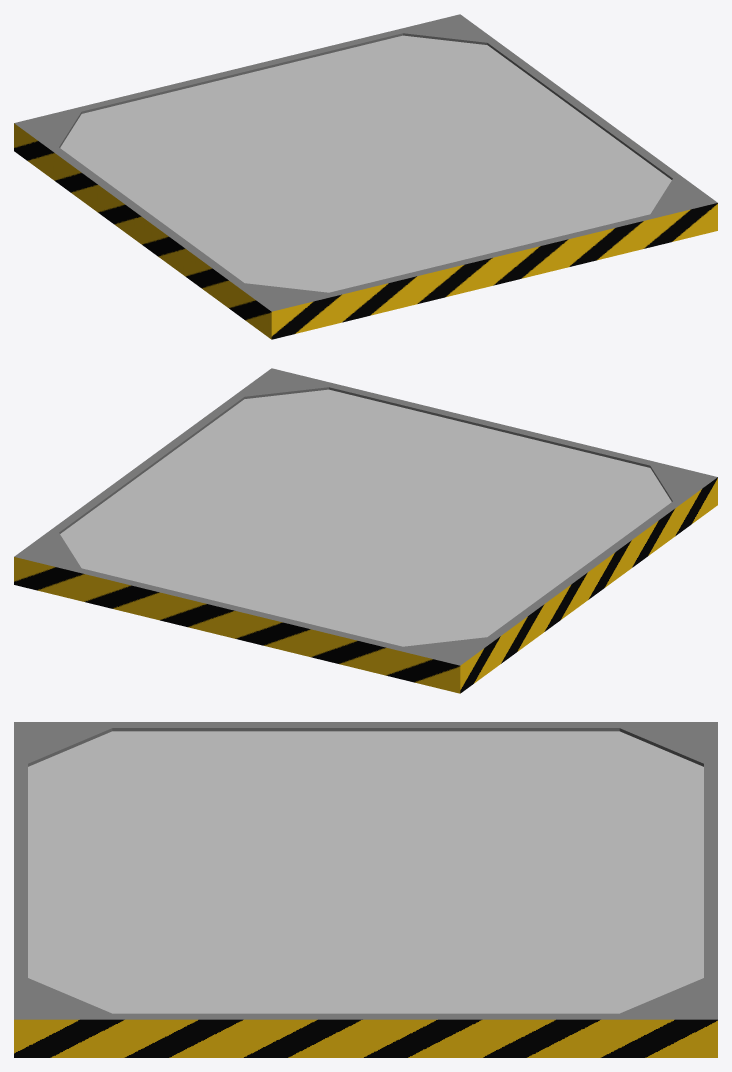
Rendered from crane_metal_platform.fbx.
3 views of the same model, one above another, from view 1: azimuth 30°, elevation 25°; view 2: azimuth 150°, elevation 25°; view 3: azimuth 270°, elevation 25° (orthographic). The views are drawn at different scales.
Visible parts, largest first — view 1: platform; view 2: platform; view 3: platform.
Part boxes in pixels (<box>): platform: <box>14,14,717,339</box>; platform: <box>14,368,717,693</box>; platform: <box>14,722,717,1057</box>.
Bounding box in the file's own units: 2 × 0.12 × 2.
Materials: 1 (1 with a texture image).
